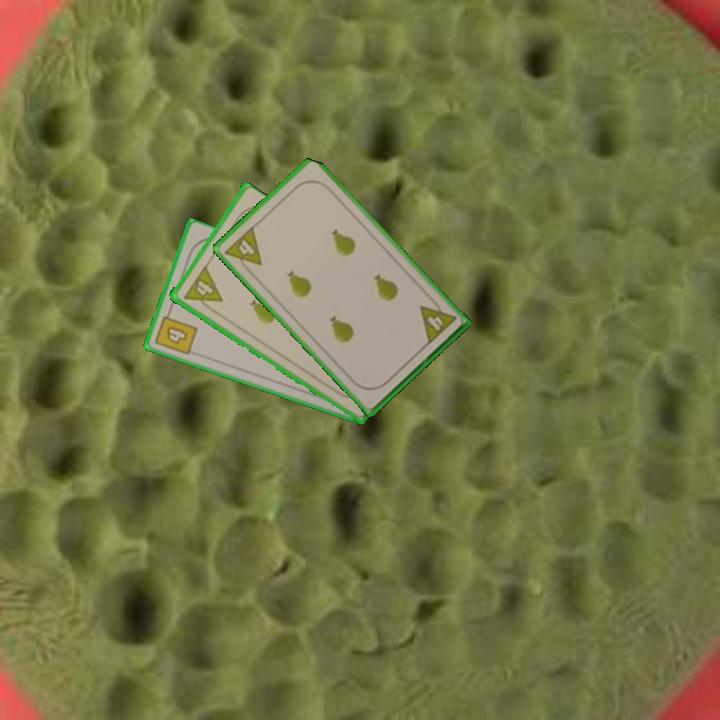4b: (151, 306, 200, 358)
4p: (221, 222, 265, 277), (180, 263, 225, 315), (416, 294, 459, 347)
